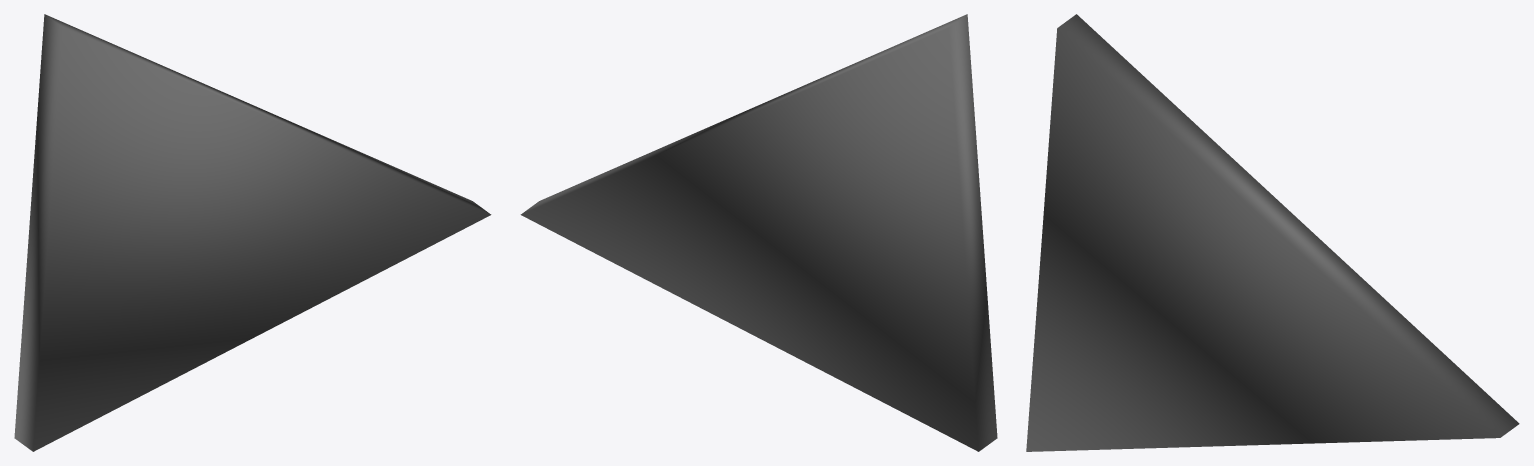
The model's file is Shard6.fbx.
3 renders of one model, left to right at view 1: azimuth 30°, elevation 25°; view 2: azimuth 150°, elevation 25°; view 3: azimuth 330°, elevation 25°, orthographic. The views are drawn at different scales.
Parts seen in each view (by area): view 1: Shard.005; view 2: Shard.005; view 3: Shard.005.
Boxes of the visible parts, box(x1,y1,x2,y2) form: Shard.005: box(14, 14, 491, 451); Shard.005: box(520, 14, 997, 451); Shard.005: box(1026, 14, 1519, 451).
Bounding box in the file's own units: 14.1 × 12.26 × 1.
1 material, 1 textured.
